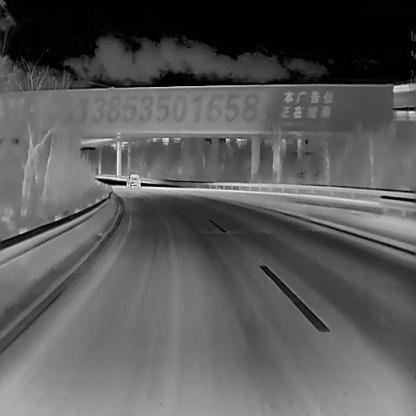car: (126, 172, 140, 187)
